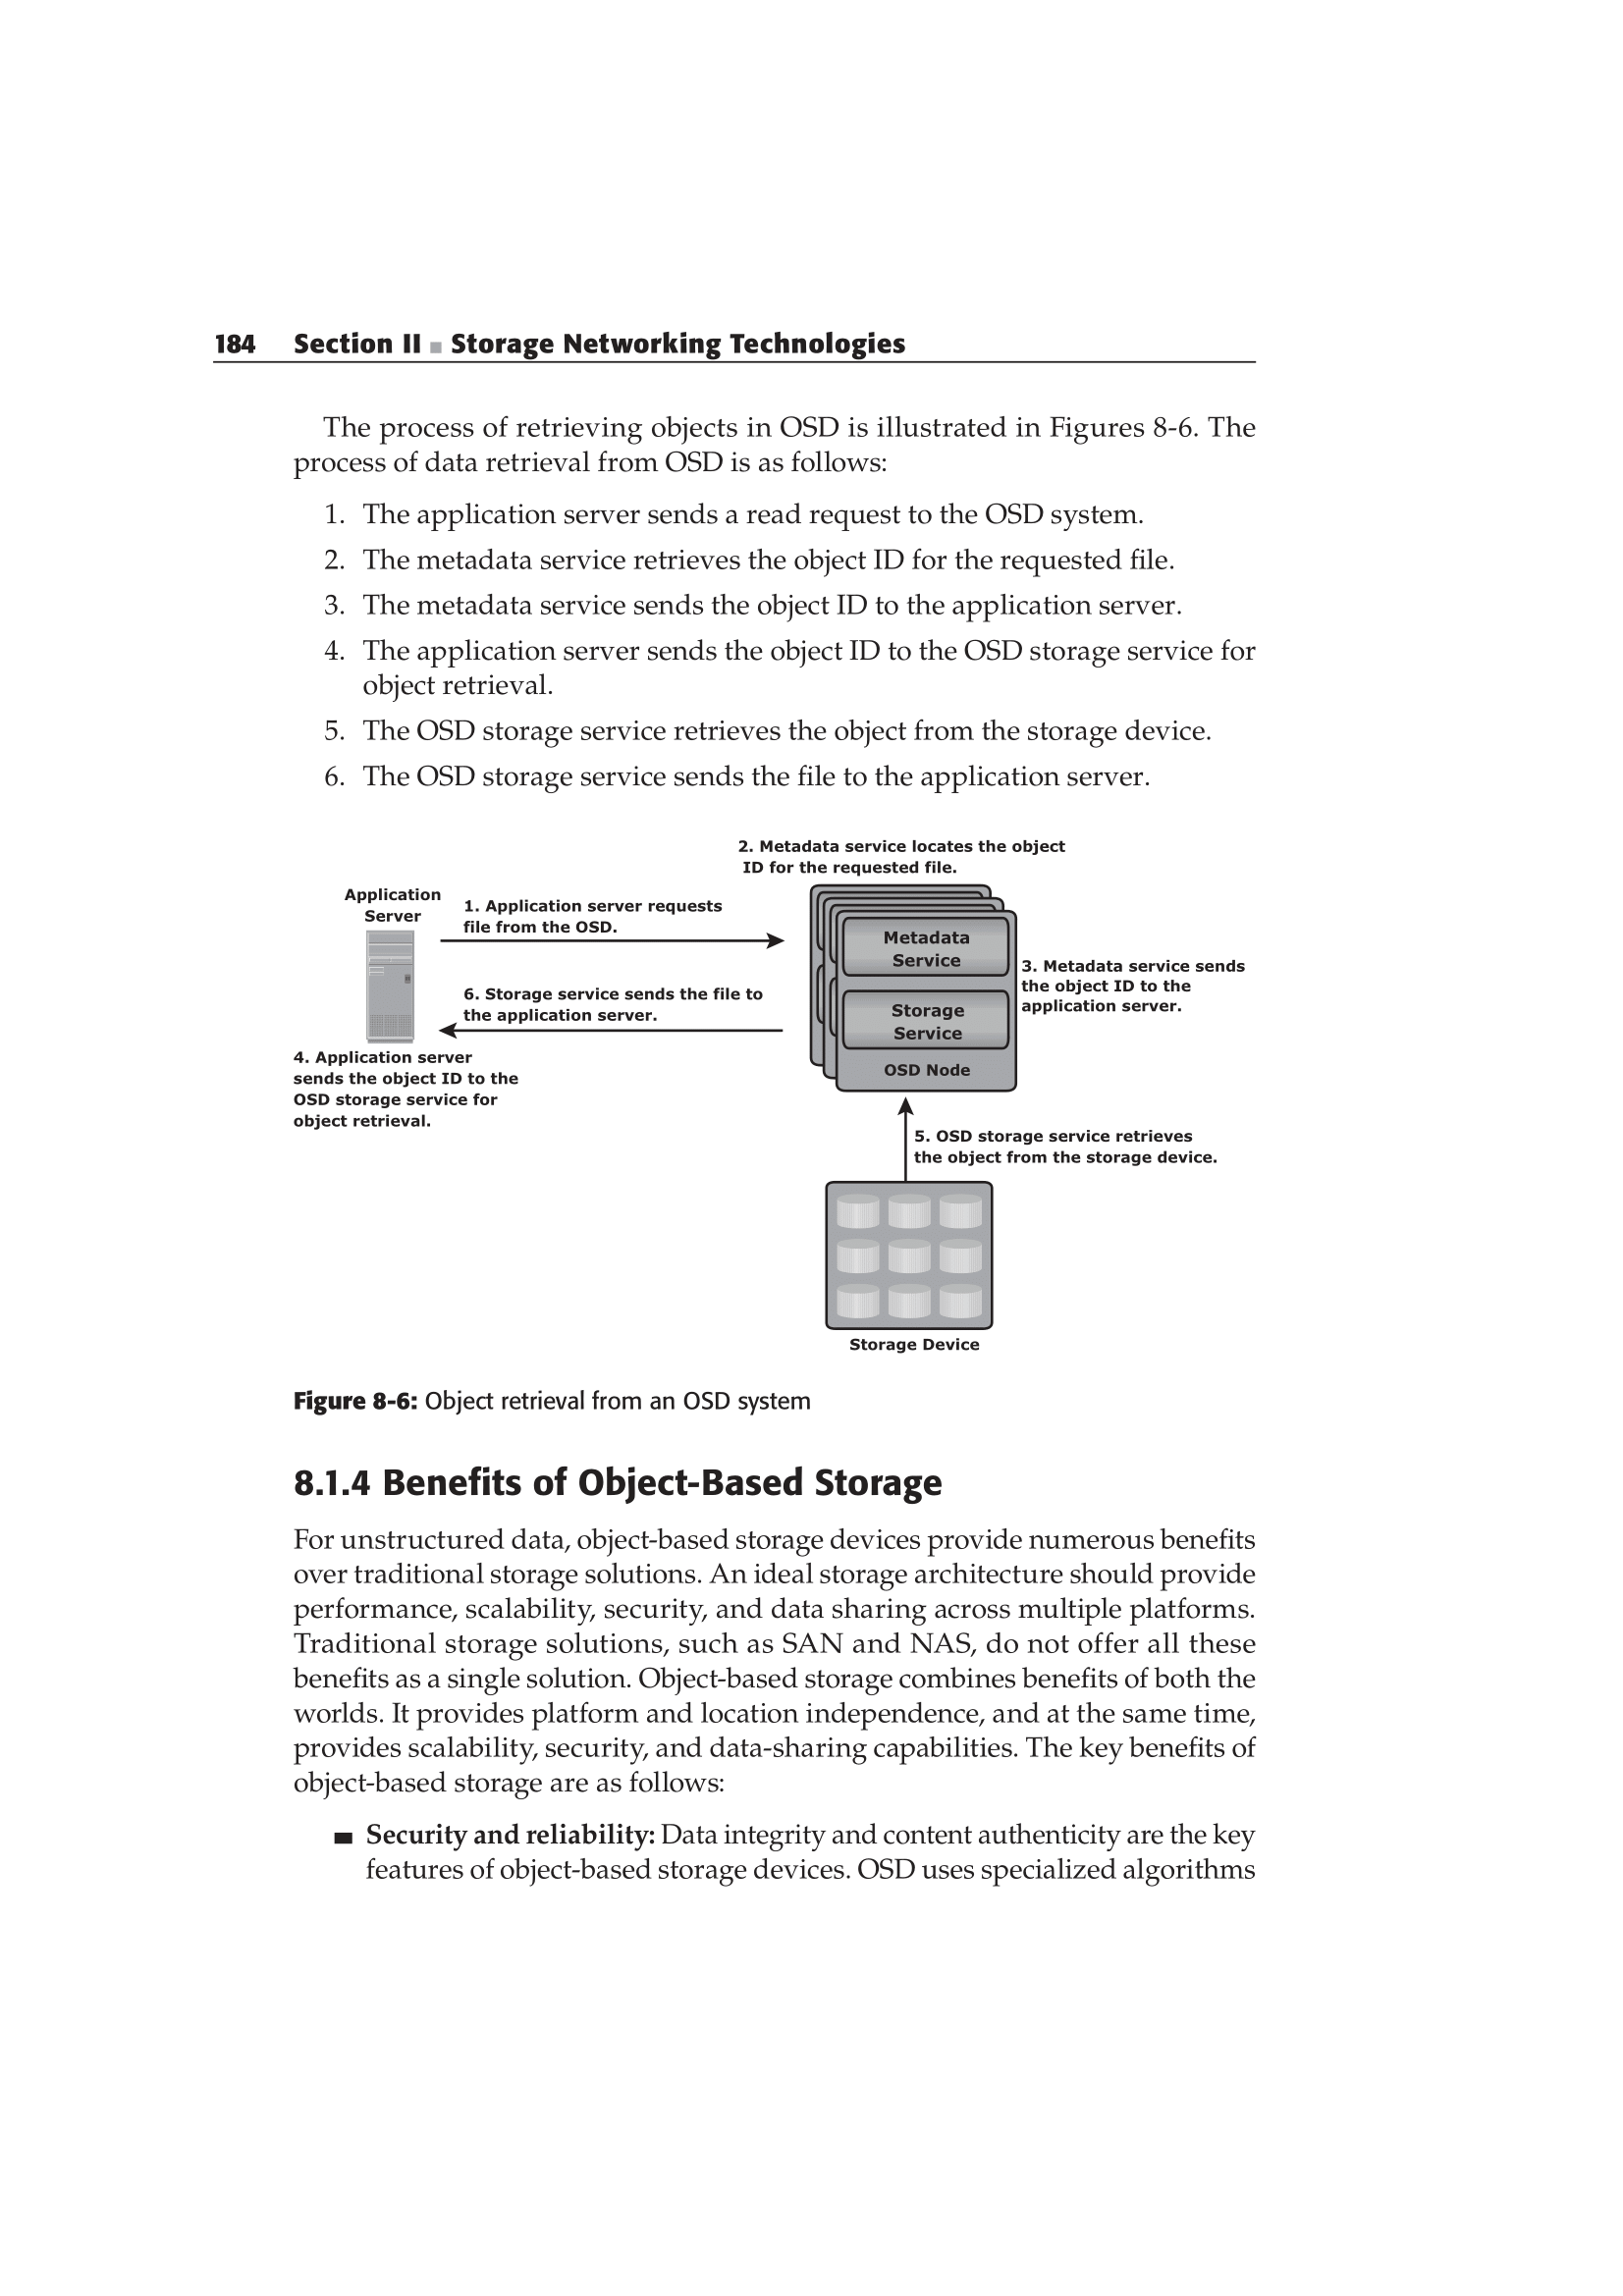Image: (234, 827, 1386, 1359)
Paragraph: (184, 499, 1349, 830), (151, 1513, 1435, 1794), (302, 1812, 1275, 1938), (290, 402, 1382, 486), (105, 305, 1035, 381), (211, 1457, 1068, 1510), (218, 1383, 917, 1422)
